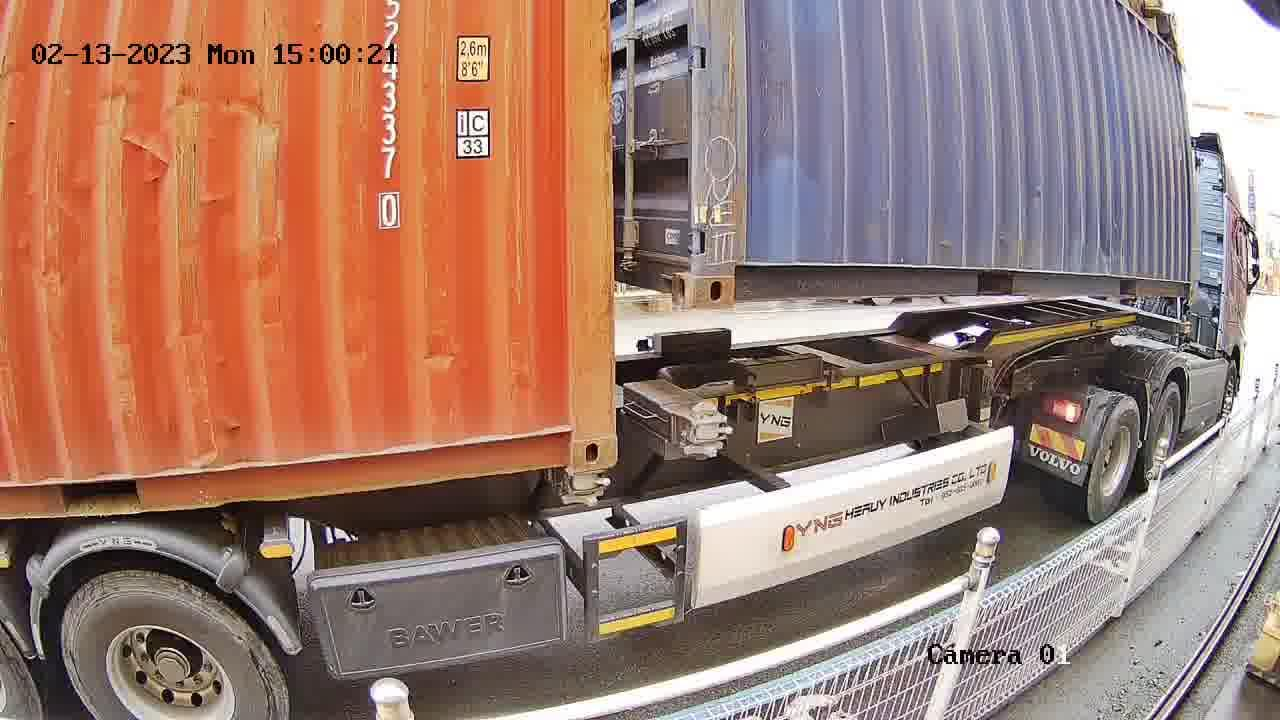Cone: (682, 400, 731, 459), (562, 468, 609, 505)
Hole_L: (690, 238, 769, 308)
Hole_R: (532, 396, 616, 469), (646, 240, 689, 305)
Tire: (62, 574, 285, 719), (1089, 397, 1140, 523), (1147, 384, 1181, 485)
